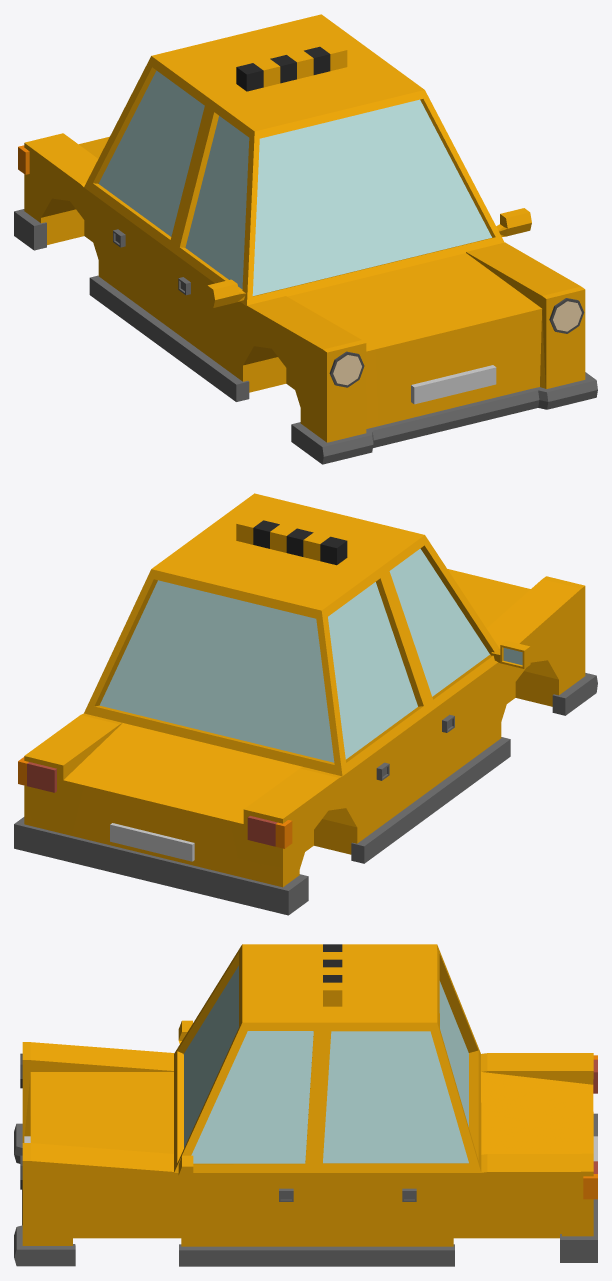
File: Car_08.fbx
3 views of the same model, one above another, from view 1: azimuth 30°, elevation 25°; view 2: azimuth 150°, elevation 25°; view 3: azimuth 270°, elevation 25° (orthographic). The views are drawn at different scales.
Parts seen in each view (by area): view 1: Car_08; view 2: Car_08; view 3: Car_08.
Part boxes in pixels (left/top/right/bottom): Car_08: left=14, top=14, right=597, bottom=464; Car_08: left=14, top=493, right=597, bottom=915; Car_08: left=14, top=944, right=597, bottom=1266.
Size of the model in its own units: 196 by 148 by 332.
